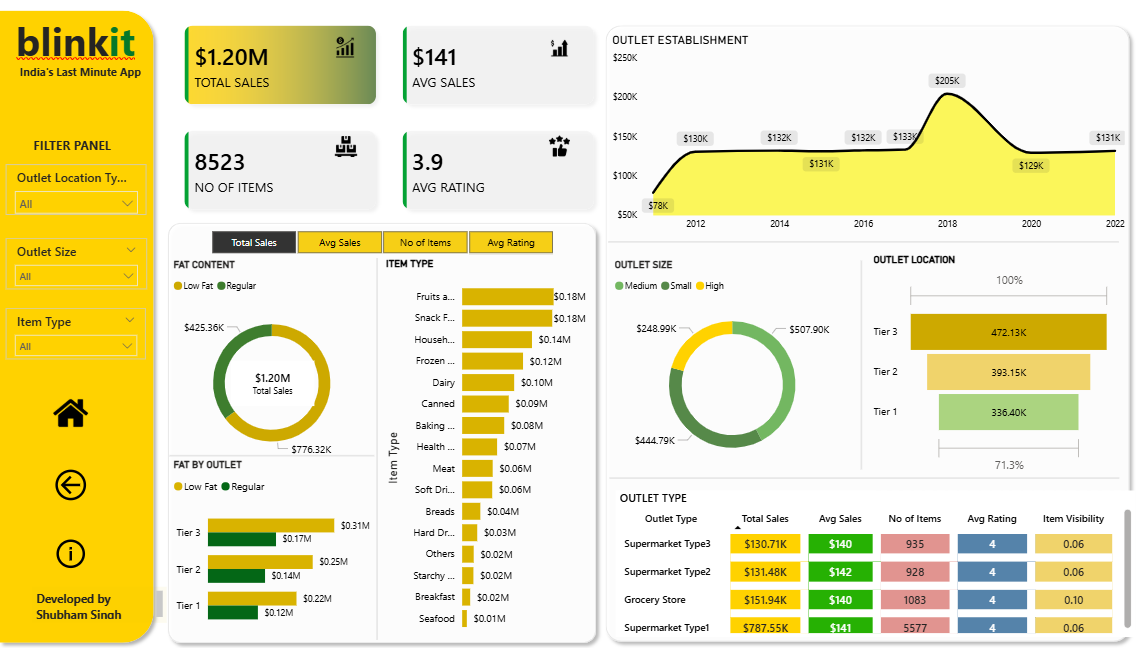

What the dashboard file says about the page in this screenshot:
{"tool":"powerbi","page":{"name":"Page 1","canvas":[1400,800],"ordinal":0},"visuals":[{"type":"shape","box":[0,12,205.6,788],"z":0},{"type":"textbox","box":[24.3,19.8,228.3,97.4],"z":1000},{"type":"textbox","box":[28.9,82.2,158.3,74.6],"z":2000},{"type":"cardVisual","fields":{"Data":["BlinkIT Grocery Data.Total Sales","BlinkIT Grocery Data.Avg Sales","BlinkIT Grocery Data.No of Items","BlinkIT Grocery Data.Avg Rating"]},"box":[205.1,10.7,557.6,282.8],"z":3000},{"type":"shape","box":[205.1,270.8,538.9,529.5],"z":4000},{"type":"image","box":[415.6,53.6,28.2,25.5],"z":5000},{"type":"image","box":[668.9,56.3,42.9,21.4],"z":6000},{"type":"image","box":[408.8,172.9,42.9,26.8],"z":7000},{"type":"image","box":[675.6,172.9,30.8,25.5],"z":8000},{"type":"donutChart","title":"FAT CONTENT","fields":{"Y":["BlinkIT Grocery Data.Total Sales"],"Category":["BlinkIT Grocery Data.Item Fat Content"]},"box":[215.8,324.4,249.3,260.1],"z":9000},{"type":"slicer","fields":{"Values":["Metrics.Metrics"]},"box":[241.3,282.8,465.1,40.2],"z":10000},{"type":"cardVisual","fields":{"Data":["BlinkIT Grocery Data.Total Sales"]},"box":[285.5,442.4,111.3,65.7],"z":11000},{"type":"clusteredBarChart","title":"FAT BY OUTLET","fields":{"Y":["BlinkIT Grocery Data.Total Sales"],"Category":["BlinkIT Grocery Data.Outlet Location Type"],"Series":["BlinkIT Grocery Data.Item Fat Content"]},"box":[215.8,568.4,249.3,219.8],"z":12000},{"type":"shape","box":[215.8,553.6,249.3,18.8],"z":13000},{"type":"shape","box":[463.8,323.1,9.4,465.1],"z":14000},{"type":"barChart","title":"ITEM TYPE","fields":{"Y":["BlinkIT Grocery Data.Total Sales"],"Category":["BlinkIT Grocery Data.Item Type"]},"box":[474.5,323.1,253.4,465.1],"z":15000},{"type":"shape","box":[738.6,30.8,655.5,768.1],"z":16000},{"type":"lineChart","title":"OUTLET ESTABLISHMENT","fields":{"Y":["BlinkIT Grocery Data.Total Sales"],"Category":["BlinkIT Grocery Data.Outlet Establishment Year"]},"box":[750.7,48.3,634.1,249.3],"z":17000},{"type":"shape","box":[750.7,298.9,622,9.4],"z":18000},{"type":"donutChart","title":"OUTLET SIZE","fields":{"Y":["BlinkIT Grocery Data.Total Sales"],"Category":["BlinkIT Grocery Data.Outlet Size"]},"box":[753.4,324.4,296.2,264.1],"z":19000},{"type":"shape","box":[1052.3,325.7,10.7,254.7],"z":20000},{"type":"funnel","title":"OUTLET LOCATION","fields":{"Category":["BlinkIT Grocery Data.Outlet Location Type"],"Y":["Sum(BlinkIT Grocery Data.Sales)"]},"box":[1068.4,317.7,298.9,273.5],"z":21000},{"type":"shape","box":[752,585.8,620.6,9.4],"z":22000},{"type":"pivotTable","title":"OUTLET TYPE","fields":{"Rows":["BlinkIT Grocery Data.Outlet Type"],"Values":["BlinkIT Grocery Data.Total Sales","BlinkIT Grocery Data.Avg Sales","BlinkIT Grocery Data.No of Items","BlinkIT Grocery Data.Avg Rating","Avg(BlinkIT Grocery Data.Item Visibility)"]},"box":[758.7,605.9,632.7,178.3],"z":23000},{"type":"slicer","fields":{"Values":["BlinkIT Grocery Data.Outlet Location Type"]},"box":[17.4,209.1,171.6,61.7],"z":24000},{"type":"slicer","fields":{"Values":["BlinkIT Grocery Data.Outlet Size"]},"box":[16.7,298.3,172,62.4],"z":25000},{"type":"slicer","fields":{"Values":["BlinkIT Grocery Data.Item Type"]},"box":[16.7,383.5,170.4,62.4],"z":26000},{"type":"textbox","box":[45.7,170.4,105,35],"z":27000},{"type":"actionButton","box":[74.6,487,42.6,48.7],"z":28000},{"type":"actionButton","box":[71.5,572.2,48.7,53.3],"z":29000},{"type":"actionButton","box":[73,655.9,45.7,53.3],"z":30000},{"type":"textbox","box":[48.7,722.8,164.3,44.1],"z":31000}]}

Visuals, with their boxes in screenshot pixels (x1, y1, x2, y2), scaled from the page's 1400x800 canvas onto the 1138x648 screenshot:
shape: bbox=[0, 10, 167, 647]
textbox: bbox=[20, 16, 205, 95]
textbox: bbox=[23, 67, 152, 127]
cardVisual - BlinkIT Grocery Data.Total Sales x BlinkIT Grocery Data.Avg Sales: bbox=[167, 9, 620, 238]
shape: bbox=[167, 219, 605, 647]
image: bbox=[338, 43, 361, 64]
image: bbox=[544, 46, 579, 63]
image: bbox=[332, 140, 367, 162]
image: bbox=[549, 140, 574, 161]
"FAT CONTENT" donutChart: bbox=[175, 263, 378, 473]
slicer - Metrics.Metrics: bbox=[196, 229, 574, 262]
cardVisual - BlinkIT Grocery Data.Total Sales: bbox=[232, 358, 323, 412]
"FAT BY OUTLET" clusteredBarChart: bbox=[175, 460, 378, 638]
shape: bbox=[175, 448, 378, 464]
shape: bbox=[377, 262, 385, 638]
"ITEM TYPE" barChart: bbox=[386, 262, 592, 638]
shape: bbox=[600, 25, 1133, 647]
"OUTLET ESTABLISHMENT" lineChart: bbox=[610, 39, 1126, 241]
shape: bbox=[610, 242, 1116, 250]
"OUTLET SIZE" donutChart: bbox=[612, 263, 853, 477]
shape: bbox=[855, 264, 864, 470]
"OUTLET LOCATION" funnel: bbox=[868, 257, 1111, 479]
shape: bbox=[611, 474, 1116, 482]
"OUTLET TYPE" pivotTable: bbox=[617, 491, 1131, 635]
slicer - BlinkIT Grocery Data.Outlet Location Type: bbox=[14, 169, 154, 219]
slicer - BlinkIT Grocery Data.Outlet Size: bbox=[14, 242, 153, 292]
slicer - BlinkIT Grocery Data.Item Type: bbox=[14, 311, 152, 361]
textbox: bbox=[37, 138, 122, 166]
actionButton: bbox=[61, 394, 95, 434]
actionButton: bbox=[58, 463, 98, 507]
actionButton: bbox=[59, 531, 96, 574]
textbox: bbox=[40, 585, 173, 621]
